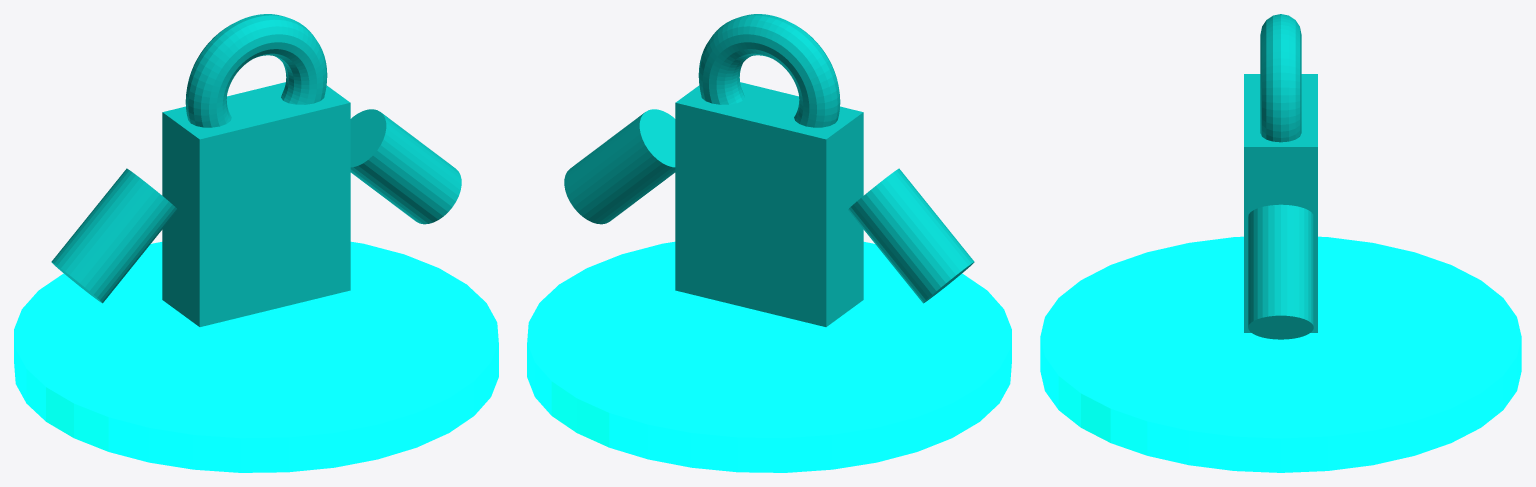
File: fashion_hoodie.glb
3 views of the same model, side by side, from view 1: azimuth 30°, elevation 25°; view 2: azimuth 150°, elevation 25°; view 3: azimuth 270°, elevation 25° (orthographic).
Parts seen in each view (by area): view 1: 06_02_Popular_Fashion_Hoodie_ROOT_base, 06_02_Popular_Fashion_Hoodie_part_01, 06_02_Popular_Fashion_Hoodie_part_02, 06_02_Popular_Fashion_Hoodie_part_03, 06_02_Popular_Fashion_Hoodie_part_04; view 2: 06_02_Popular_Fashion_Hoodie_ROOT_base, 06_02_Popular_Fashion_Hoodie_part_01, 06_02_Popular_Fashion_Hoodie_part_02, 06_02_Popular_Fashion_Hoodie_part_03, 06_02_Popular_Fashion_Hoodie_part_04; view 3: 06_02_Popular_Fashion_Hoodie_ROOT_base, 06_02_Popular_Fashion_Hoodie_part_04, 06_02_Popular_Fashion_Hoodie_part_01, 06_02_Popular_Fashion_Hoodie_part_02.
Part boxes in pixels (x1,y1,x2,y2): 06_02_Popular_Fashion_Hoodie_ROOT_base: (14,241,498,472); 06_02_Popular_Fashion_Hoodie_part_01: (162,82,350,326); 06_02_Popular_Fashion_Hoodie_part_02: (185,14,327,127); 06_02_Popular_Fashion_Hoodie_part_03: (51,168,177,303); 06_02_Popular_Fashion_Hoodie_part_04: (350,109,461,224); 06_02_Popular_Fashion_Hoodie_ROOT_base: (527,241,1011,472); 06_02_Popular_Fashion_Hoodie_part_01: (675,82,863,326); 06_02_Popular_Fashion_Hoodie_part_02: (698,14,840,127); 06_02_Popular_Fashion_Hoodie_part_03: (848,168,974,303); 06_02_Popular_Fashion_Hoodie_part_04: (564,109,675,224); 06_02_Popular_Fashion_Hoodie_ROOT_base: (1040,236,1521,472); 06_02_Popular_Fashion_Hoodie_part_04: (1248,204,1313,339); 06_02_Popular_Fashion_Hoodie_part_01: (1244,74,1317,332); 06_02_Popular_Fashion_Hoodie_part_02: (1260,14,1301,142).
Size of the model in its own units: 0.76 by 0.6099 by 0.76.
